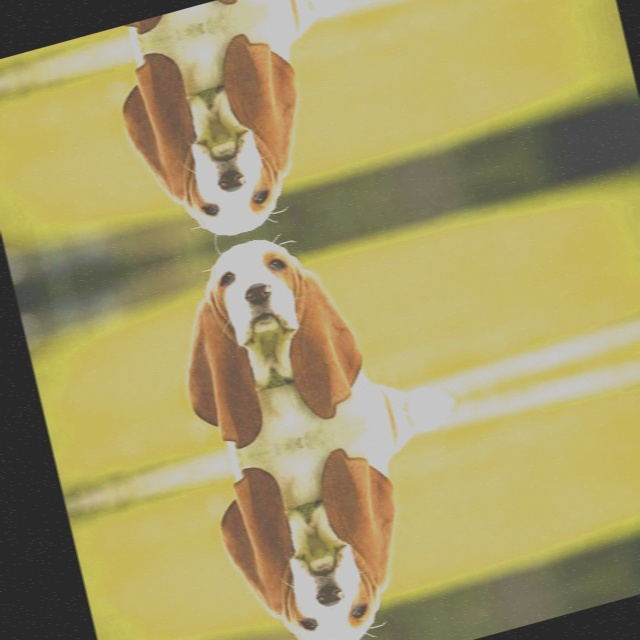dog: (173, 219, 350, 428), (132, 47, 309, 256), (230, 462, 408, 640)
